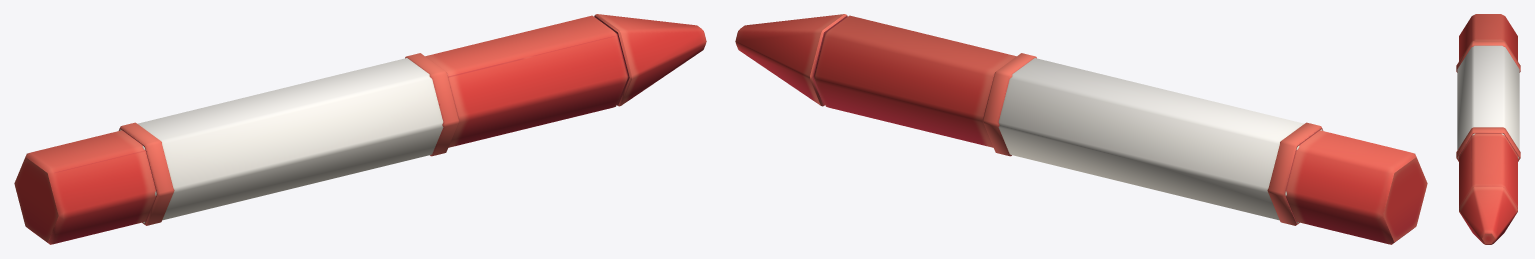
Rendered from toy_crayon_red.glb.
3 views of the same model, side by side, from view 1: azimuth 30°, elevation 25°; view 2: azimuth 150°, elevation 25°; view 3: azimuth 270°, elevation 25° (orthographic). The views are drawn at different scales.
Visible parts, largest first — view 1: prop; view 2: prop; view 3: prop.
Part boxes in pixels (x1,y1,x2,y2): prop: (14,14,706,244); prop: (735,14,1427,244); prop: (1456,14,1520,244).
Bounding box in the file's own units: 7 × 0.8314 × 0.94.
Materials: 1 (1 with a texture image).
